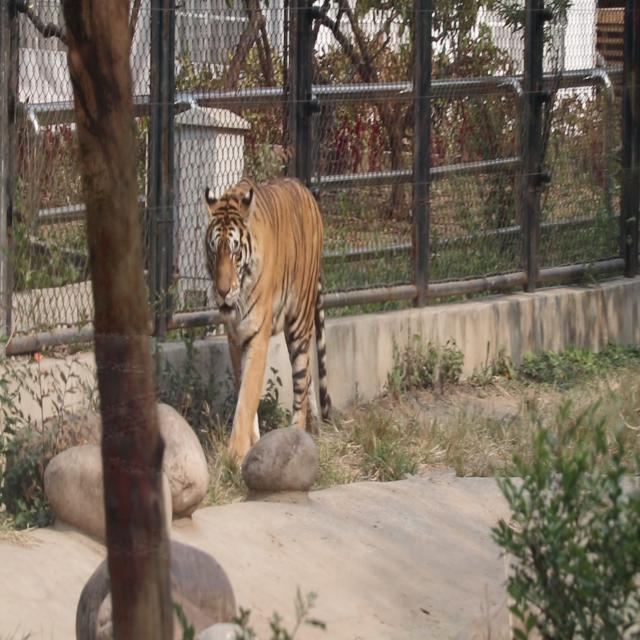Tiger: (198, 166, 346, 508)
